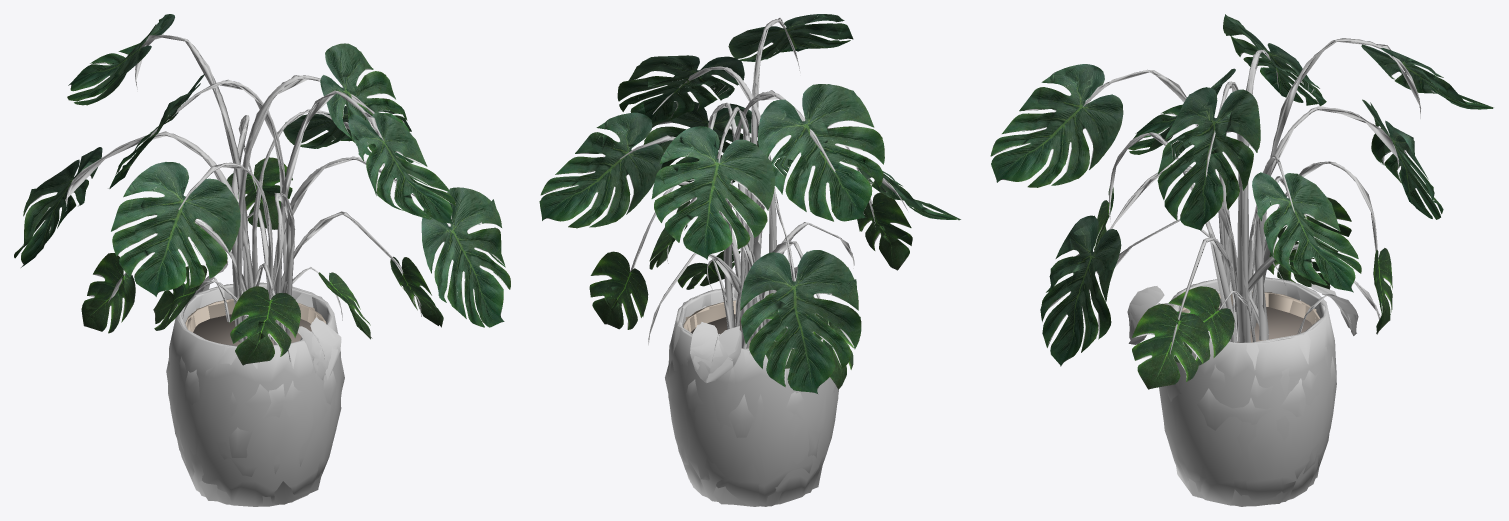
File: Plant.fbx
3 renders of one model, left to right at view 1: azimuth 30°, elevation 25°; view 2: azimuth 150°, elevation 25°; view 3: azimuth 270°, elevation 25°, orthographic. The views are drawn at different scales.
Visible parts, largest first — view 1: Plant, Plant.002, Plant.001; view 2: Plant, Plant.002, Plant.001; view 3: Plant, Plant.002, Plant.001.
Part boxes in pixels (x1=…): Plant: x1=14, y1=14, x2=510, y2=506; Plant.002: x1=14, y1=18, x2=507, y2=504; Plant.001: x1=14, y1=14, x2=510, y2=506; Plant: x1=540, y1=14, x2=960, y2=506; Plant.002: x1=539, y1=16, x2=959, y2=506; Plant.001: x1=540, y1=14, x2=959, y2=506; Plant: x1=991, y1=15, x2=1492, y2=506; Plant.002: x1=991, y1=14, x2=1492, y2=506; Plant.001: x1=990, y1=16, x2=1493, y2=506.
Size of the model in its own units: 0.886 by 1.01 by 1.08.
